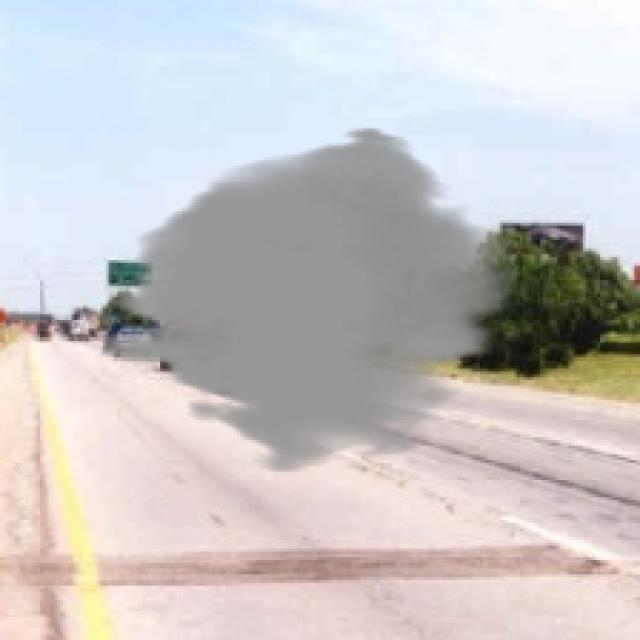Smoke: (102, 126, 518, 474)
